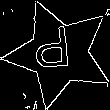P_S: (38, 27, 80, 80)
